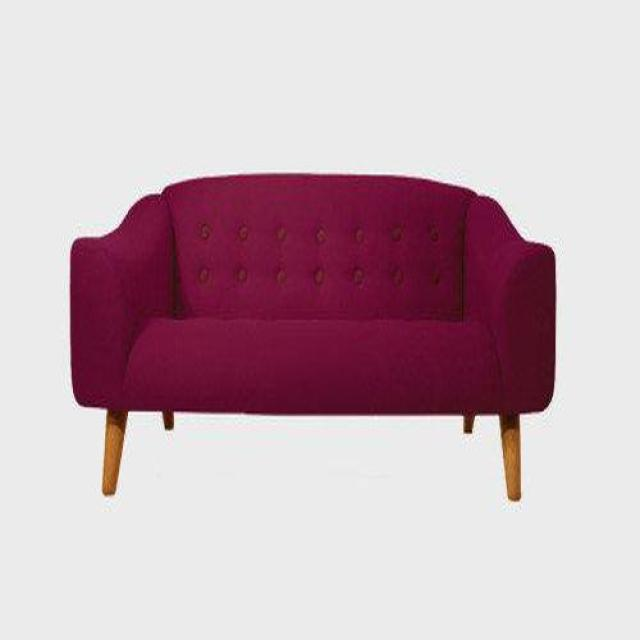sofa: (69, 174, 556, 497)
